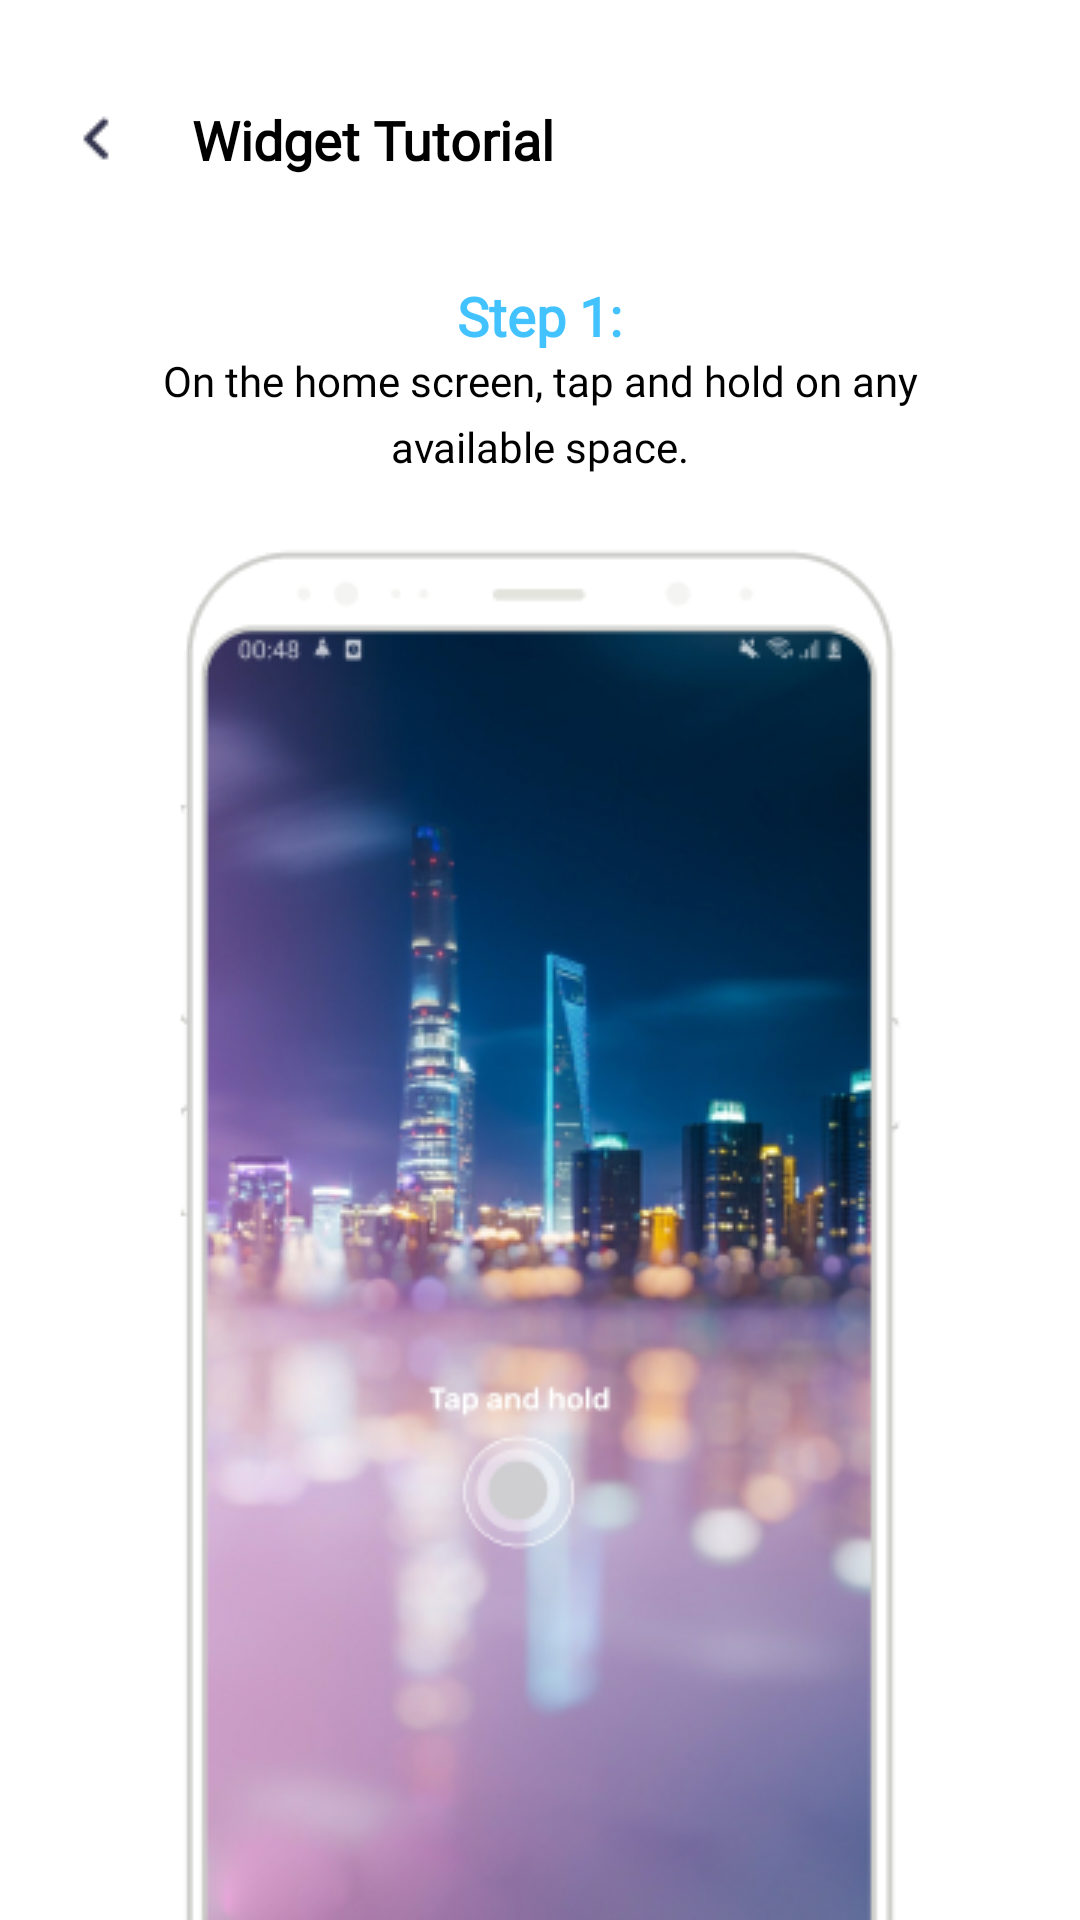

Icons on this 1080 × 1920 Android screen, each with its box as (x1, y1, x2, y2):
back arrow: (83, 116, 109, 160)
